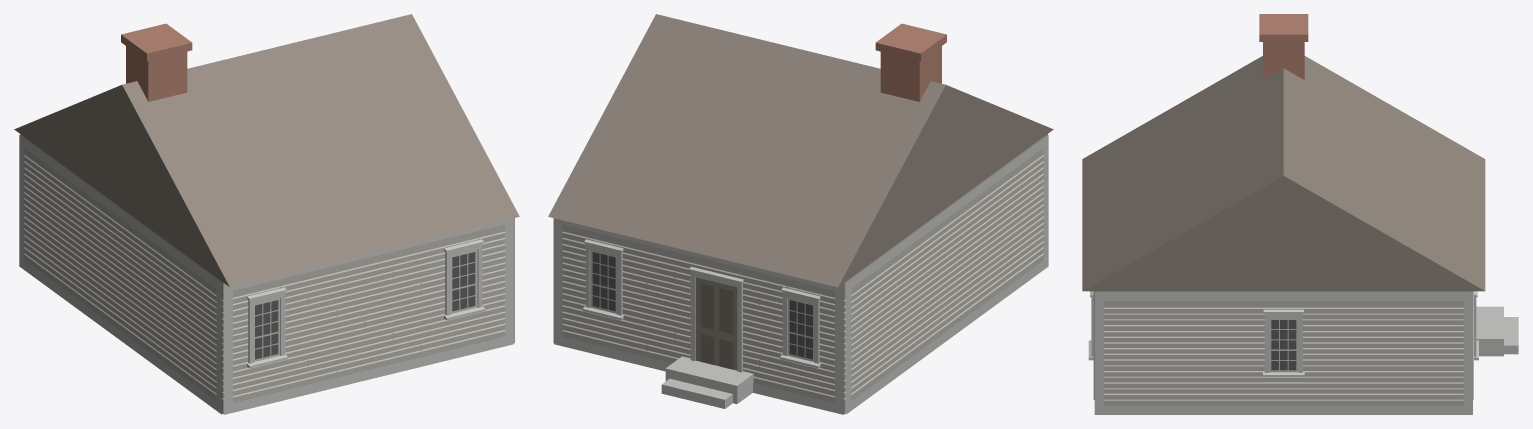
The model's file is recon_1835_blk_randolph_market_d4_03__inferred_1835.glb.
3 views of the same model, side by side, from view 1: azimuth 30°, elevation 25°; view 2: azimuth 150°, elevation 25°; view 3: azimuth 270°, elevation 25° (orthographic). The views are drawn at different scales.
Parts seen in each view (by area): view 1: recon_1835_blk_randolph_market_d4_03__inferred_1835; view 2: recon_1835_blk_randolph_market_d4_03__inferred_1835; view 3: recon_1835_blk_randolph_market_d4_03__inferred_1835.
Boxes of the visible parts, <box> form: recon_1835_blk_randolph_market_d4_03__inferred_1835: <box>14,14,519,414</box>; recon_1835_blk_randolph_market_d4_03__inferred_1835: <box>548,14,1053,414</box>; recon_1835_blk_randolph_market_d4_03__inferred_1835: <box>1082,14,1518,414</box>.
Size of the model in its own units: 6.43 by 6.06 by 8.77.
